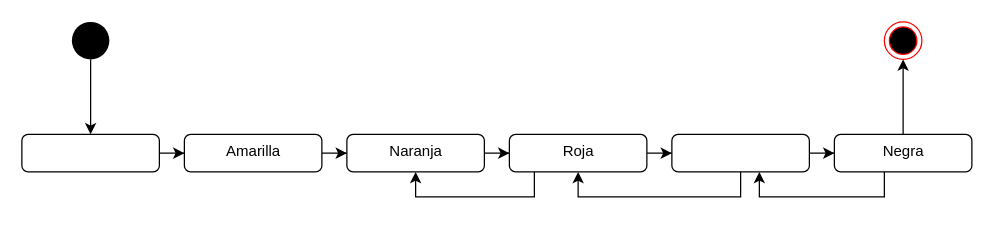
The diagram is 994 pixels wide and 229 high, and some of its shapes have lost their labels. The shapes that lost their labels are listed below. From the top down, each one's box as (x1, y1, x2, y2) in pixels, then its label:
(21, 133, 159, 172): Blanco
(671, 133, 809, 172): Morada
